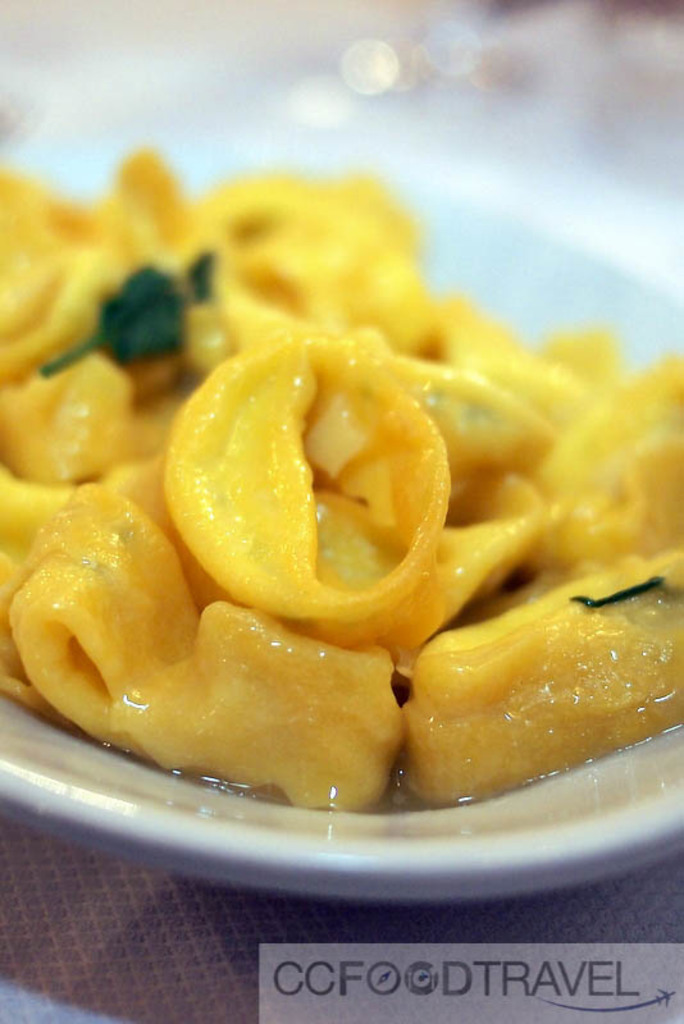pasta: (23, 184, 660, 827)
